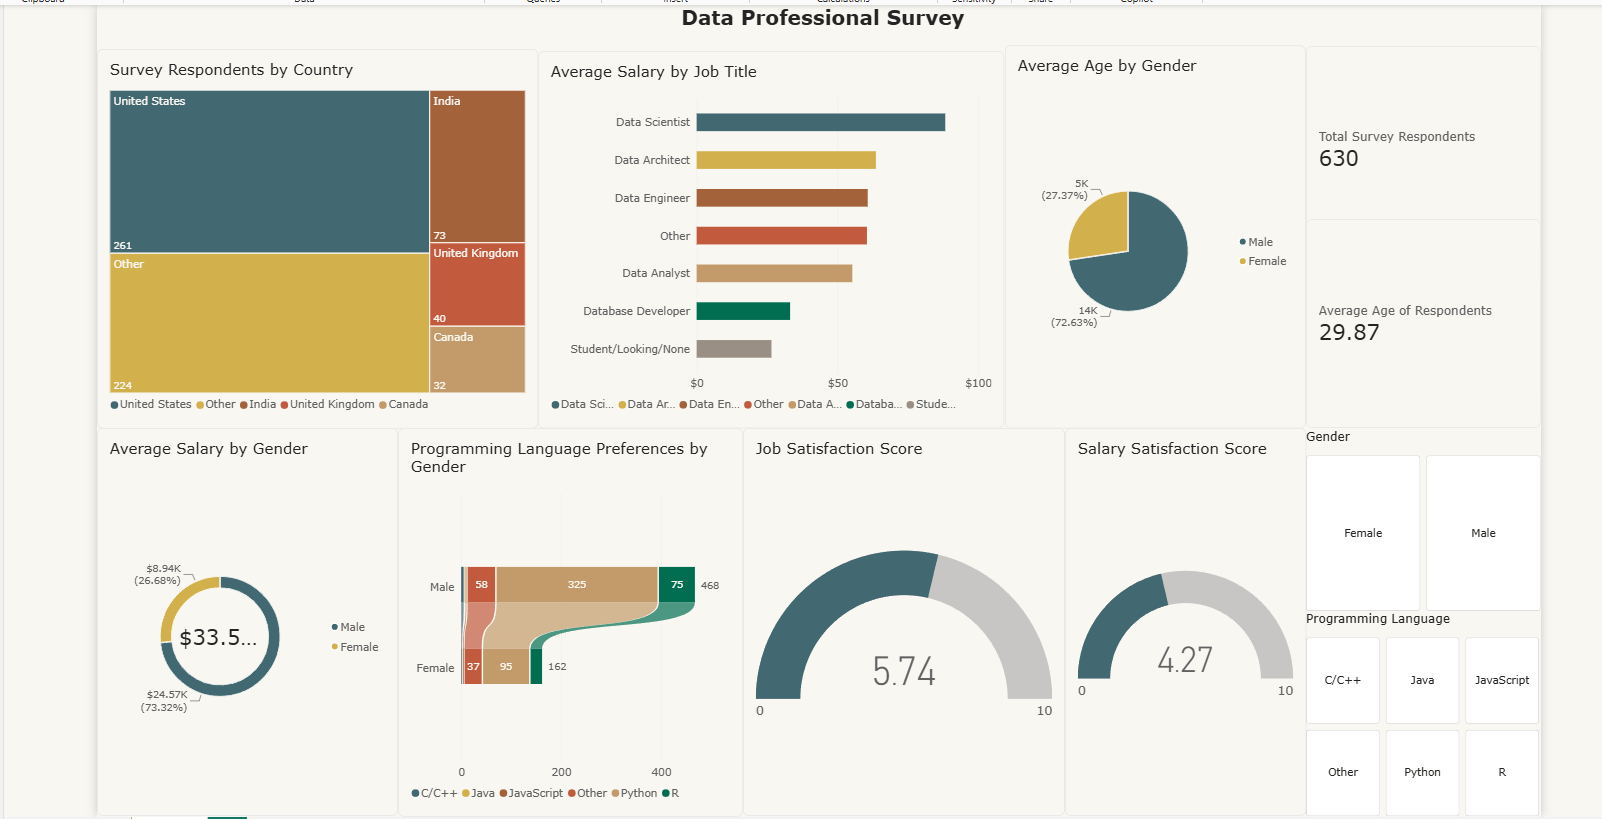

This screenshot's page, from the dashboard's own definition file:
{"tool":"powerbi","page":{"name":"Page 1","canvas":[1920,1080],"ordinal":0},"visuals":[{"type":"textbox","box":[10.2,0,1909.8,108],"z":0},{"type":"cardVisual","title":"Total Survey Respondents","fields":{"Data":["CountNonNull(Data Professional Survey.Unique ID)"]},"box":[1607.6,54.3,312.4,277.2],"z":1000},{"type":"cardVisual","fields":{"Data":["Avg(Data Professional Survey.Q10 - Current Age)"]},"box":[1607.6,284.6,312.4,278.7],"z":2000},{"type":"barChart","title":"Average Salary by Job Title","fields":{"Category":["Data Professional Survey.Q1 - Which Title Best Fits your Current Role?.1.1.1.1.1"],"Y":["Avg(Data Professional Survey.avg_salary)"],"Series":["Data Professional Survey.Q1 - Which Title Best Fits your Current Role?.1.1.1.1.1"]},"box":[586.7,61.6,620.4,501.6],"z":3000},{"type":"pieChart","title":"Average Age by Gender","fields":{"Category":["Data Professional Survey.Q9 - Male/Female?"],"Y":["Sum(Data Professional Survey.Q10 - Current Age)"]},"box":[1207.2,52.8,400.4,510.4],"z":4000},{"type":"donutChart","title":"Average Salary by Gender","fields":{"Category":["Data Professional Survey.Q9 - Male/Female?"],"Y":["Sum(Data Professional Survey.avg_salary)"]},"box":[0,563.2,400.4,516.3],"z":5000},{"type":"barChart","title":"Programming Language Preferences by Gender","fields":{"Category":["Data Professional Survey.Q9 - Male/Female?"],"Y":["CountNonNull(Data Professional Survey.Q5 - Favorite Programming Language.1)"],"Series":["Data Professional Survey.Q5 - Favorite Programming Language.1"]},"box":[400.4,563.2,711.4,516.3],"z":6000},{"type":"treemap","title":"Survey Respondents by Country","fields":{"Group":["Data Professional Survey.Q11 - Which Country do you live in?.1"],"Values":["CountNonNull(Data Professional Survey.Q11 - Which Country do you live in?.1)"]},"box":[0,58.7,586.7,504.6],"z":7000},{"type":"gauge","title":"Job Satisfaction Score","fields":{"MinValue":["Min(Data Professional Survey.Q6 - How Happy are you in your Current Position with the following? (Work/Life Balance))"],"MaxValue":["Max(Data Professional Survey.Q6 - How Happy are you in your Current Position with the following? (Work/Life Balance))1"],"Y":["Avg(Data Professional Survey.Q6 - How Happy are you in your Current Position with the following? (Work/Life Balance))"]},"box":[1113.3,563.2,428.3,516.3],"z":8000},{"type":"gauge","title":"Salary Satisfaction Score","fields":{"Y":["Avg(Data Professional Survey.Q6 - How Happy are you in your Current Position with the following? (Salary))"],"MinValue":["Min(Data Professional Survey.Q6 - How Happy are you in your Current Position with the following? (Salary))"],"MaxValue":["Max(Data Professional Survey.Q6 - How Happy are you in your Current Position with the following? (Salary))1"]},"box":[1541.6,563.2,378.4,516.3],"z":9000}]}

Visuals, with their boxes on the page's 1920x1080 design canvas (x1, y1, x2, y2). These are canvas units, not pixel positions in the 1602x819 screenshot, which may show the page scaled, cropped or inside an application window:
textbox: (10, 0, 1920, 108)
"Total Survey Respondents" cardVisual: (1608, 54, 1920, 332)
cardVisual - Avg(Data Professional Survey.Q10 - Current Age): (1608, 285, 1920, 563)
"Average Salary by Job Title" barChart: (587, 62, 1207, 563)
"Average Age by Gender" pieChart: (1207, 53, 1608, 563)
"Average Salary by Gender" donutChart: (0, 563, 400, 1080)
"Programming Language Preferences by Gender" barChart: (400, 563, 1112, 1080)
"Survey Respondents by Country" treemap: (0, 59, 587, 563)
"Job Satisfaction Score" gauge: (1113, 563, 1542, 1080)
"Salary Satisfaction Score" gauge: (1542, 563, 1920, 1080)
